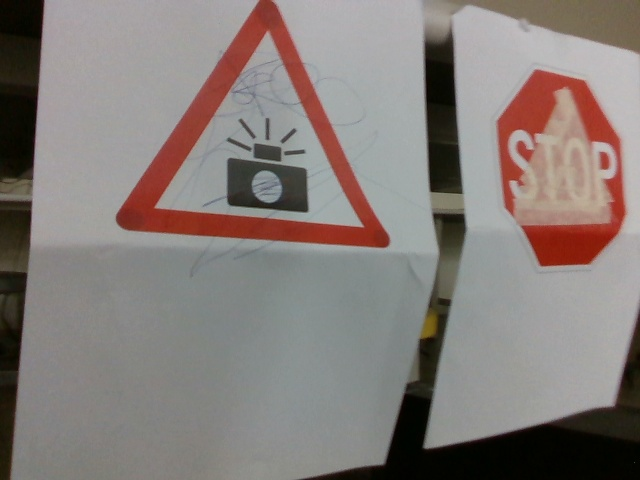camera: (118, 1, 393, 249)
stop: (494, 69, 630, 269)
